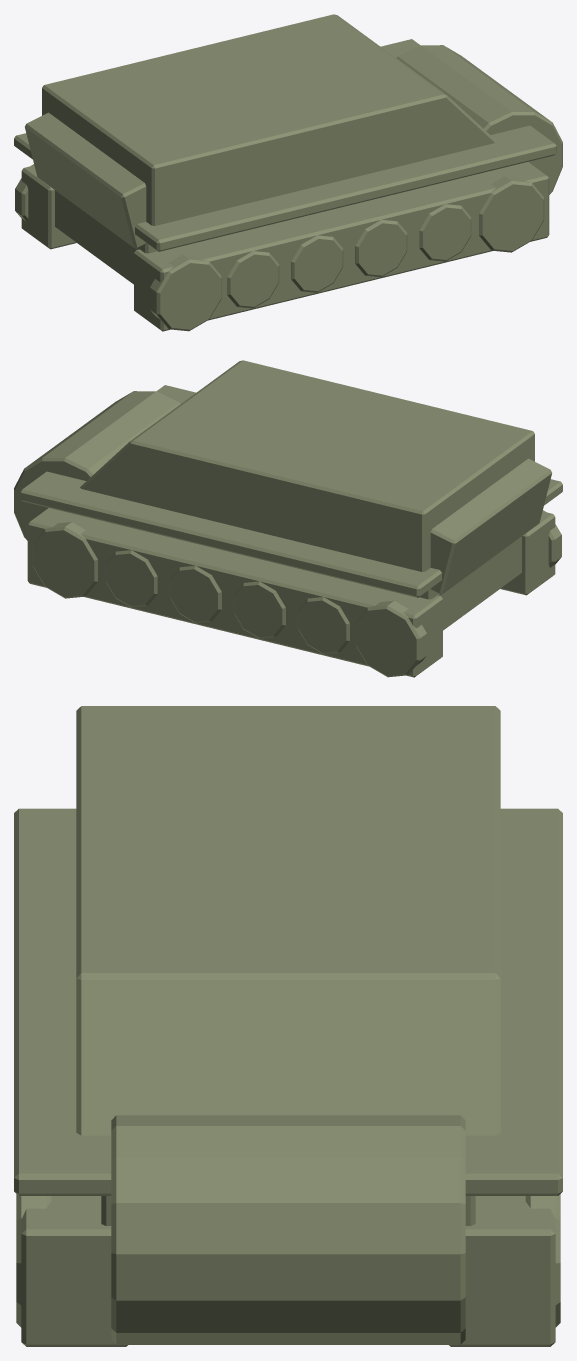
The model's file is sherman.glb.
3 views of the same model, one above another, from view 1: azimuth 30°, elevation 25°; view 2: azimuth 150°, elevation 25°; view 3: azimuth 270°, elevation 25° (orthographic). The views are drawn at different scales.
Visible parts, largest first — view 1: sherman; view 2: sherman; view 3: sherman.
Boxes of the visible parts, x1=… form: sherman: x1=14, y1=14, x2=562, y2=331; sherman: x1=14, y1=360, x2=562, y2=677; sherman: x1=14, y1=706, x2=562, y2=1346.
Bounding box in the file's own units: 3.89 × 1.33 × 2.2.
